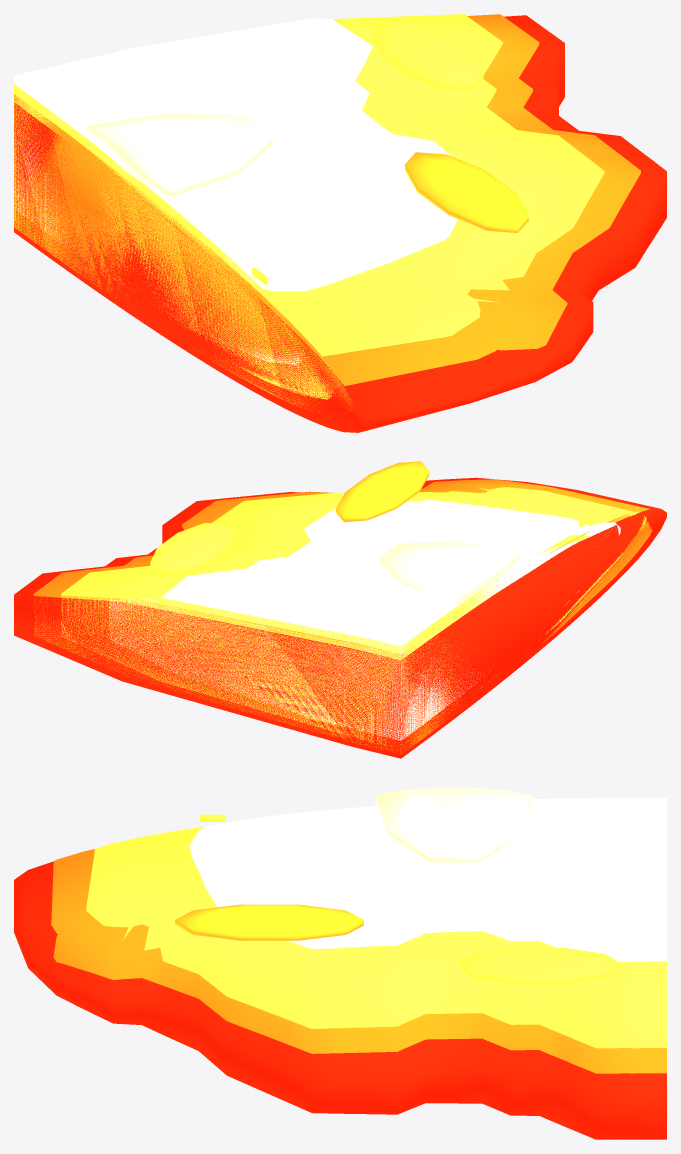
Rendered from newshk-93.glb.
The picture shows the model from 3 angles, top to bottom: view 1: azimuth 30°, elevation 25°; view 2: azimuth 150°, elevation 25°; view 3: azimuth 270°, elevation 25°; orthographic projection. The views are drawn at different scales.
Visible parts, largest first — view 1: newshk-93; view 2: newshk-93; view 3: newshk-93.
Part boxes in pixels (x1=…): newshk-93: x1=14, y1=14, x2=666, y2=432; newshk-93: x1=14, y1=461, x2=666, y2=758; newshk-93: x1=14, y1=787, x2=666, y2=1139.
Bounding box in the file's own units: 1.61 × 0.5043 × 1.92.
